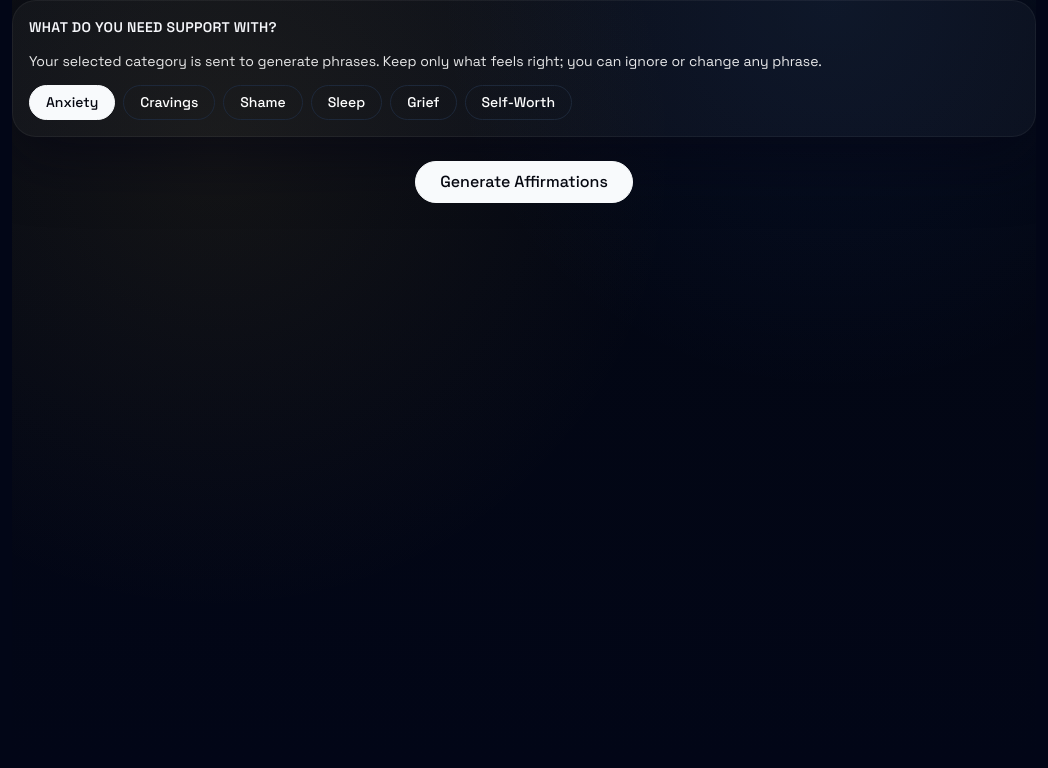
Test case: AffirmationsTool and Healer › sends only the explicitly selected concern and renders the structured phrases
Click the button "Shame". click: point(263, 102)
box: top-left (223, 85), bottom-right (303, 120)
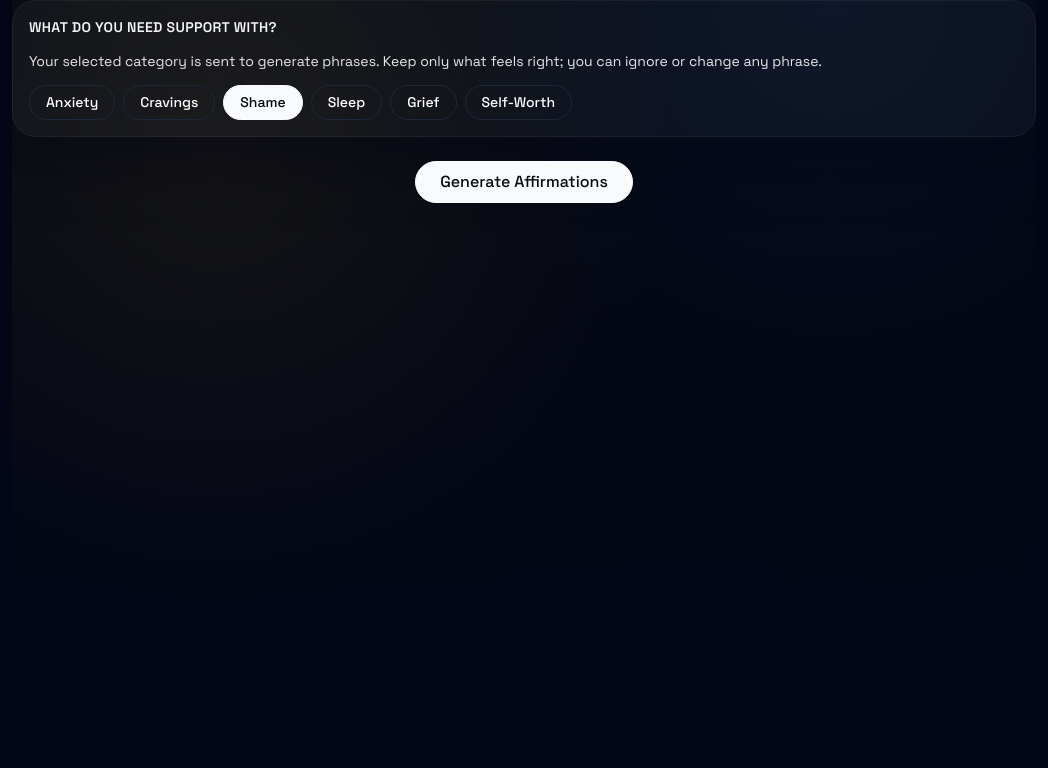
Click the button "Generate Affirmations". click: point(524, 182)
box: top-left (415, 161), bottom-right (633, 203)
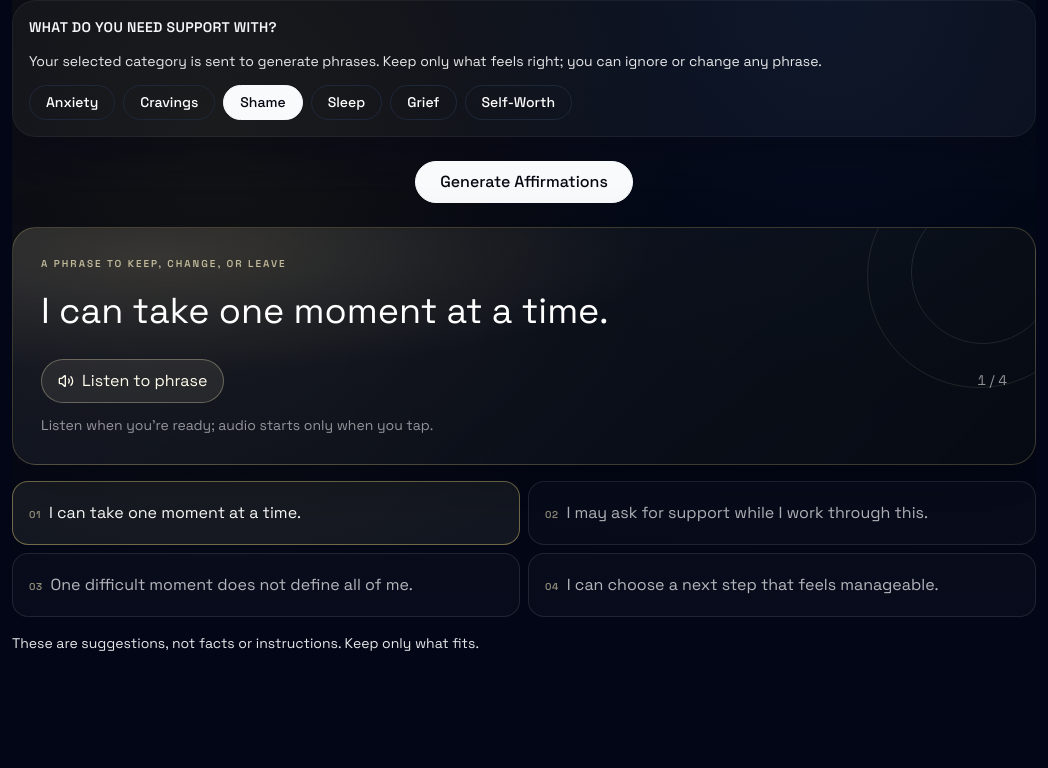
Expected: the text "I can take one moment at a time." is shown, top-left (41, 288), bottom-right (608, 334)
